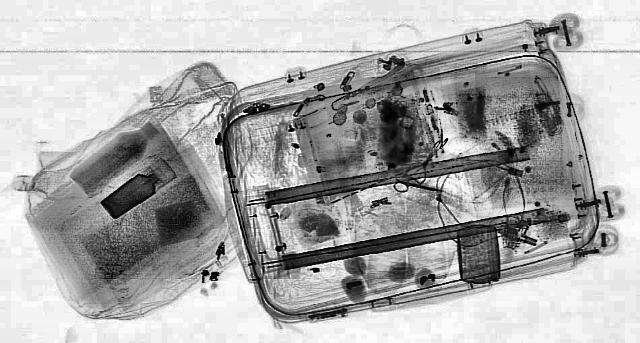Scissors: (386, 172, 448, 198)
